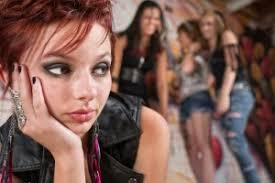Drunk: (41, 17, 111, 130)
